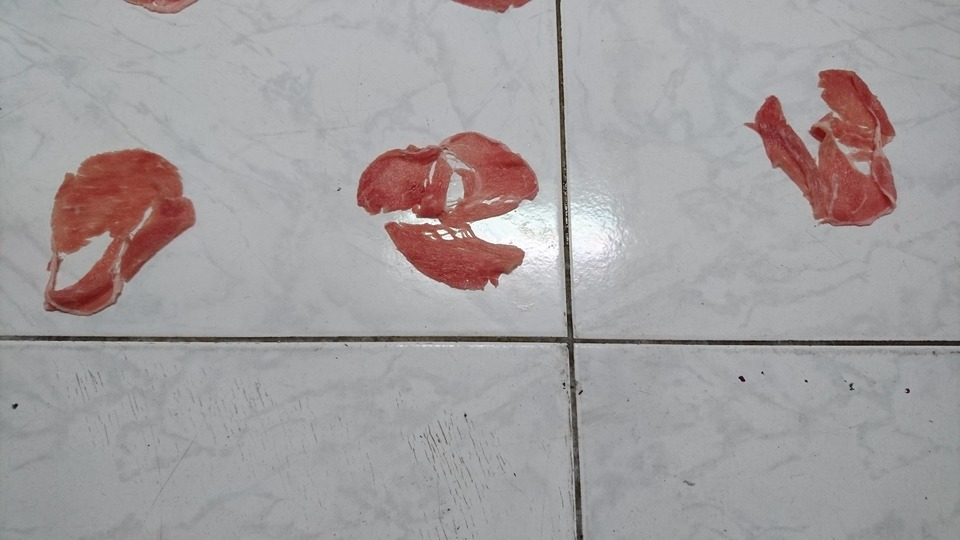restructured meat: (354, 124, 560, 296), (42, 128, 213, 319), (752, 64, 914, 232)
